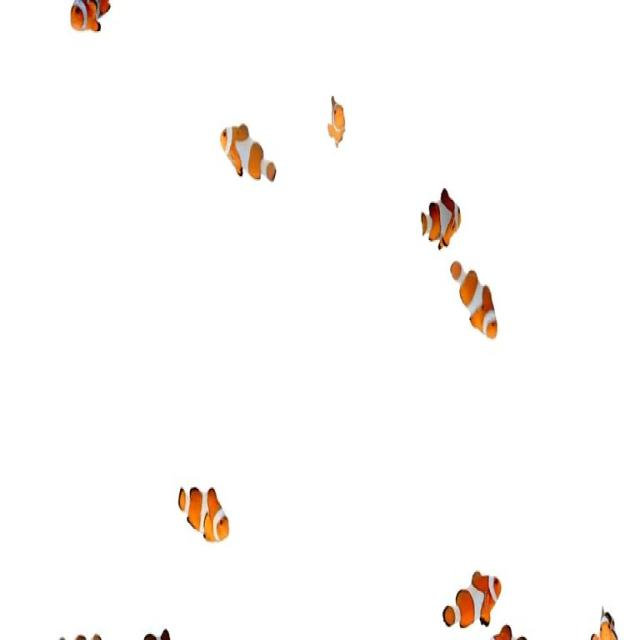fish: (437, 555, 502, 631), (218, 117, 282, 187), (449, 258, 499, 342), (177, 477, 231, 547), (421, 183, 464, 249), (71, 0, 112, 35), (326, 93, 348, 149)
